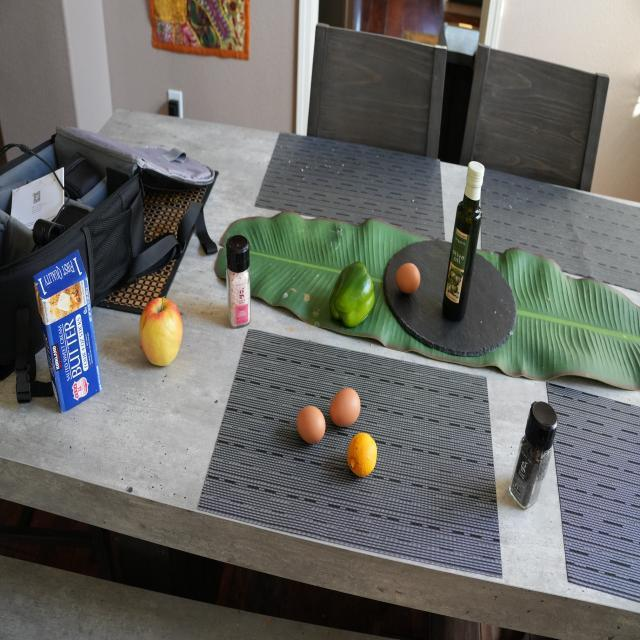bell_pepper: (511, 400, 559, 520), (330, 256, 376, 332)
egg: (331, 387, 363, 427), (297, 405, 327, 447), (398, 265, 422, 298)
